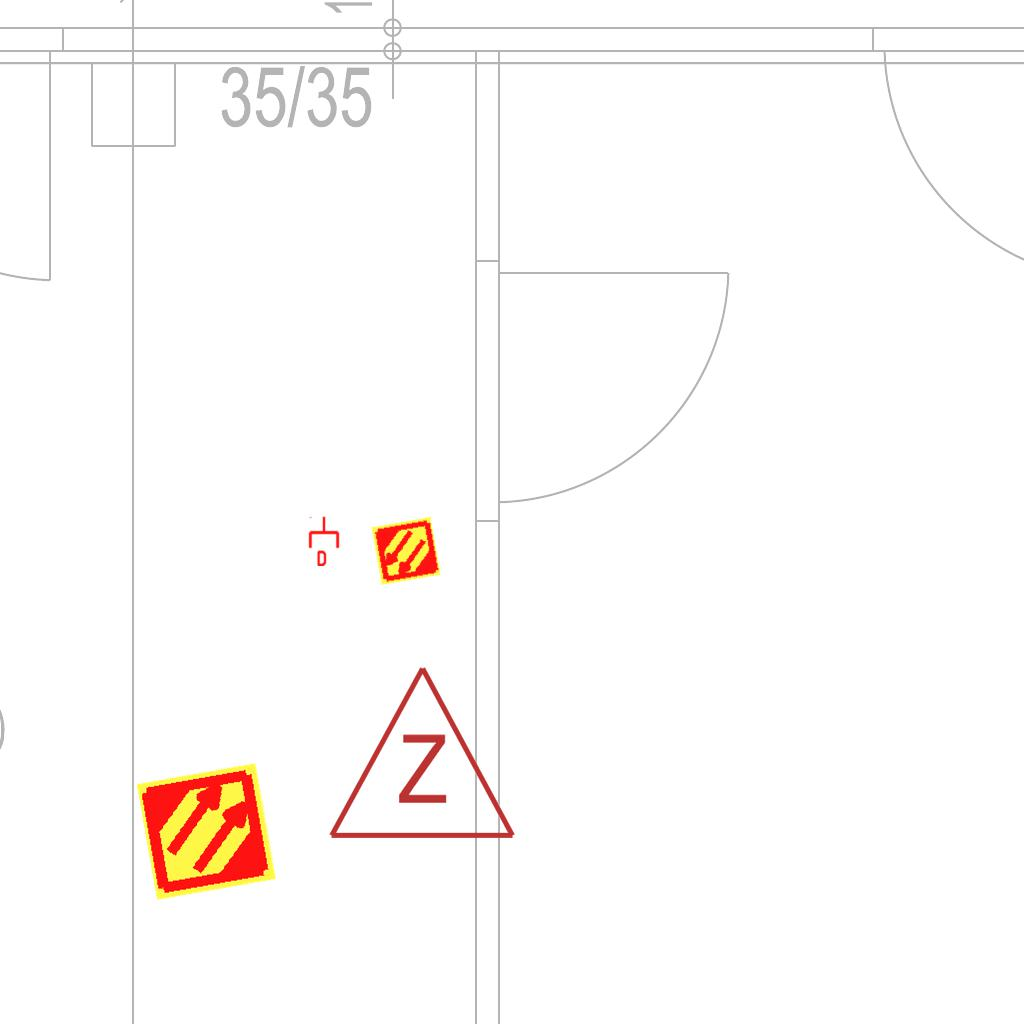ASR_Ansaugrauchmelder: (134, 759, 279, 904), (370, 515, 442, 587)
Datenanschluss_einfach: (307, 516, 341, 566)
Zimmersignalleuchte: (322, 653, 518, 853)
